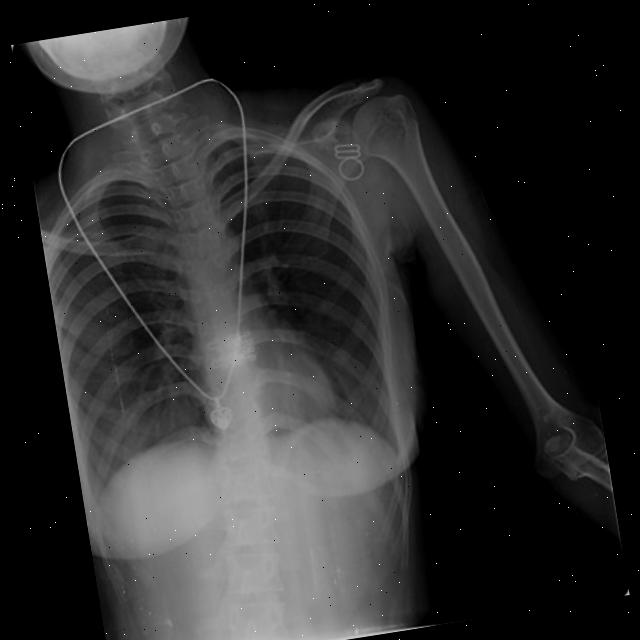Fracture: (373, 92, 422, 132)
